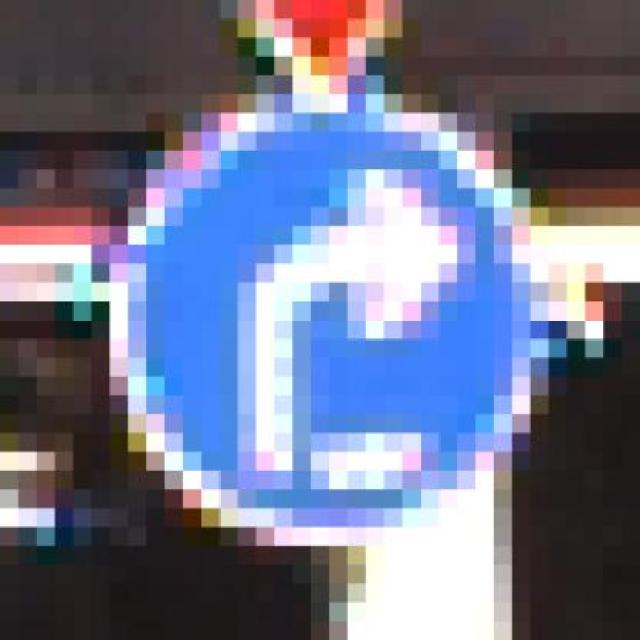Turn right ahead: (110, 76, 548, 546)
